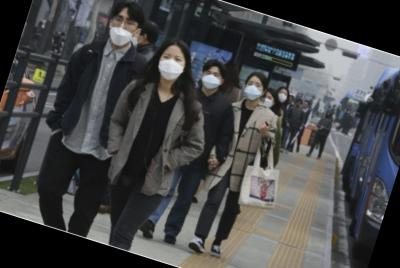mask_weared_incorrect: (106, 12, 141, 51)
with_mask: (154, 50, 189, 86), (240, 78, 266, 104), (199, 68, 223, 92), (260, 93, 277, 111), (275, 90, 289, 105), (325, 112, 332, 119)
without_mask: (295, 101, 302, 109), (303, 102, 309, 109)
